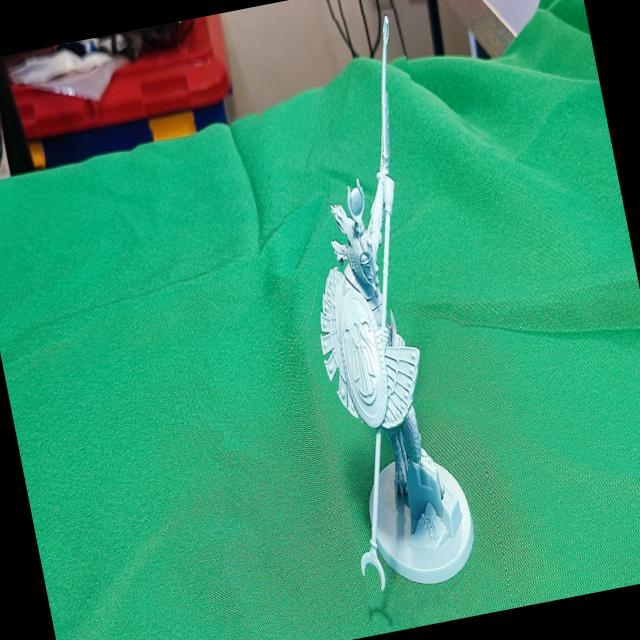isis: (249, 8, 511, 624)
